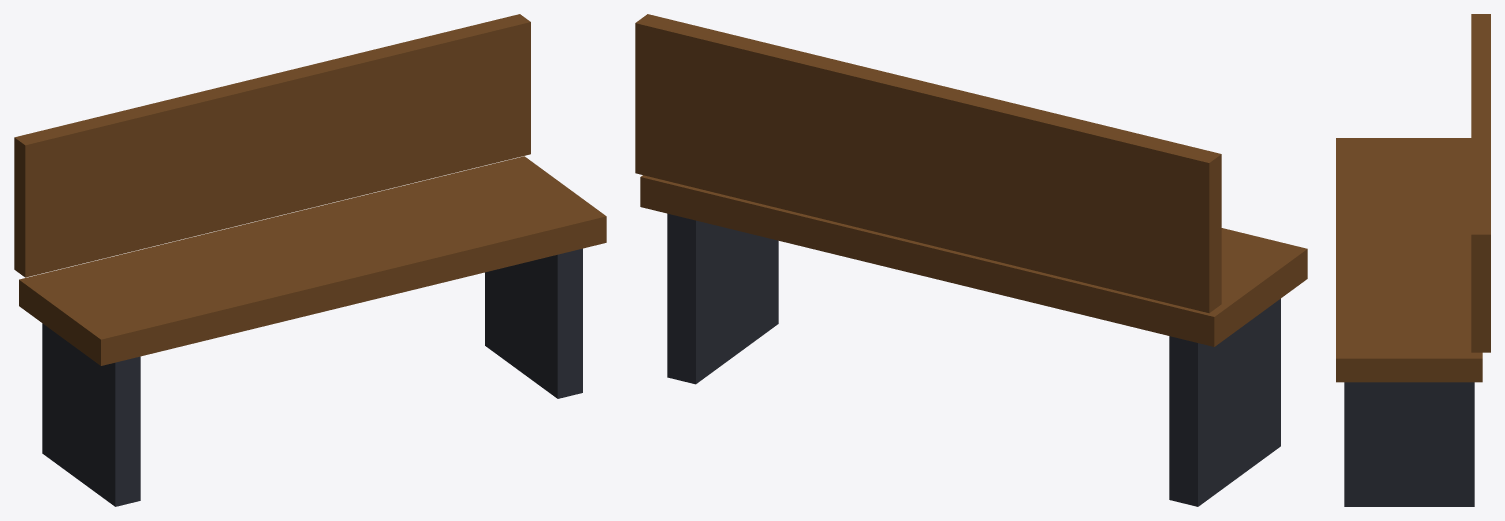
The model's file is bench.glb.
3 renders of one model, left to right at view 1: azimuth 30°, elevation 25°; view 2: azimuth 150°, elevation 25°; view 3: azimuth 270°, elevation 25°, orthographic. The views are drawn at different scales.
Visible parts, largest first — view 1: model; view 2: model; view 3: model.
Boxes of the visible parts, box(x1,y1,x2,y2) form: model: box(14, 14, 606, 506); model: box(635, 14, 1307, 506); model: box(1336, 14, 1490, 506).
Size of the model in its own units: 1.6 by 0.95 by 0.475.
